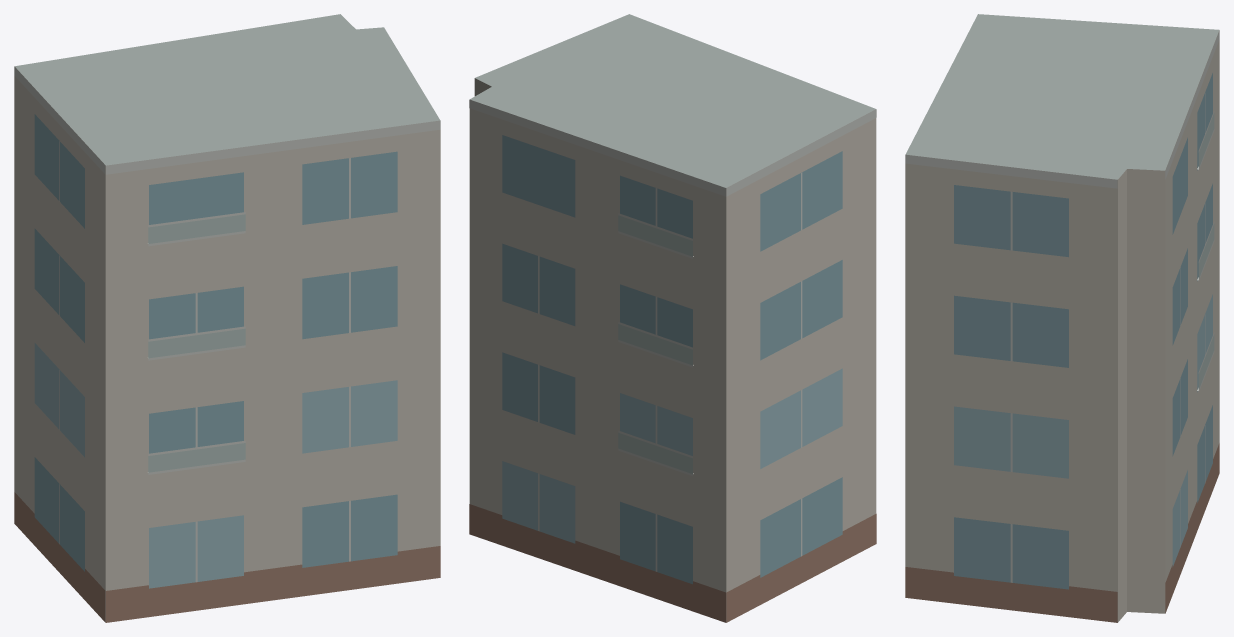
File: survey-upis-33045939.glb
3 renders of one model, left to right at view 1: azimuth 30°, elevation 25°; view 2: azimuth 150°, elevation 25°; view 3: azimuth 270°, elevation 25°, orthographic. The views are drawn at different scales.
Parts seen in each view (by area): view 1: survey-upis-33045939.tmp; view 2: survey-upis-33045939.tmp; view 3: survey-upis-33045939.tmp.
Part boxes in pixels (box(x1,y1,x2,y2)): survey-upis-33045939.tmp: box(14, 14, 440, 622); survey-upis-33045939.tmp: box(469, 14, 876, 622); survey-upis-33045939.tmp: box(905, 14, 1219, 622).
Size of the model in its own units: 9.72 by 12.1 by 7.79.
